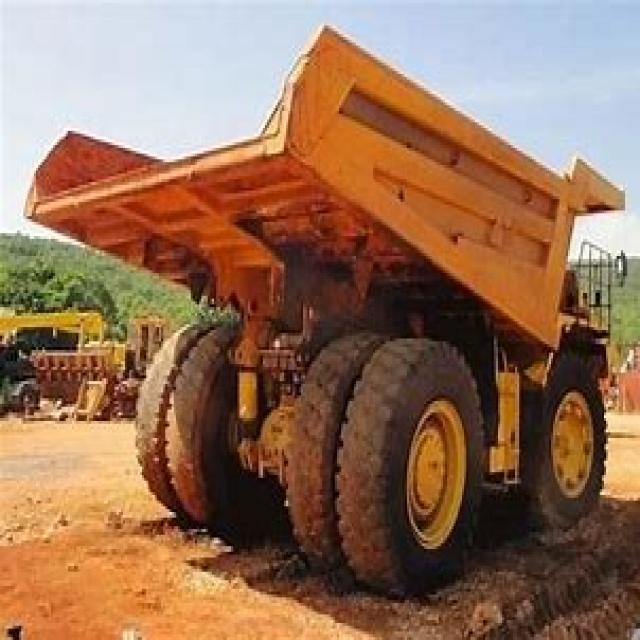dump_truck: (26, 22, 625, 574)
